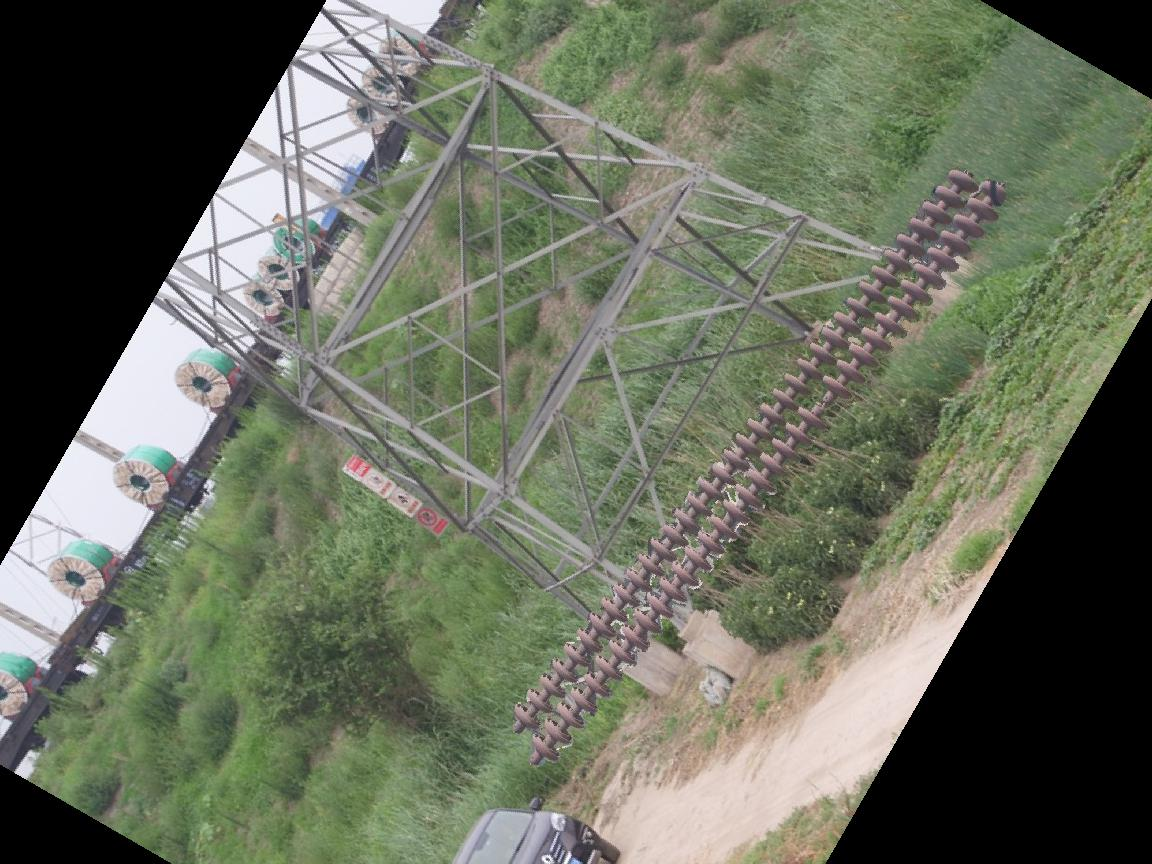insulator: (510, 160, 1014, 766)
insulator_stringdrop: (796, 370, 858, 431)
